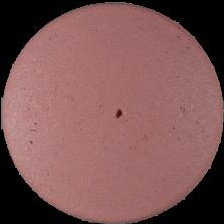54868-4875: (0, 0, 224, 224)
